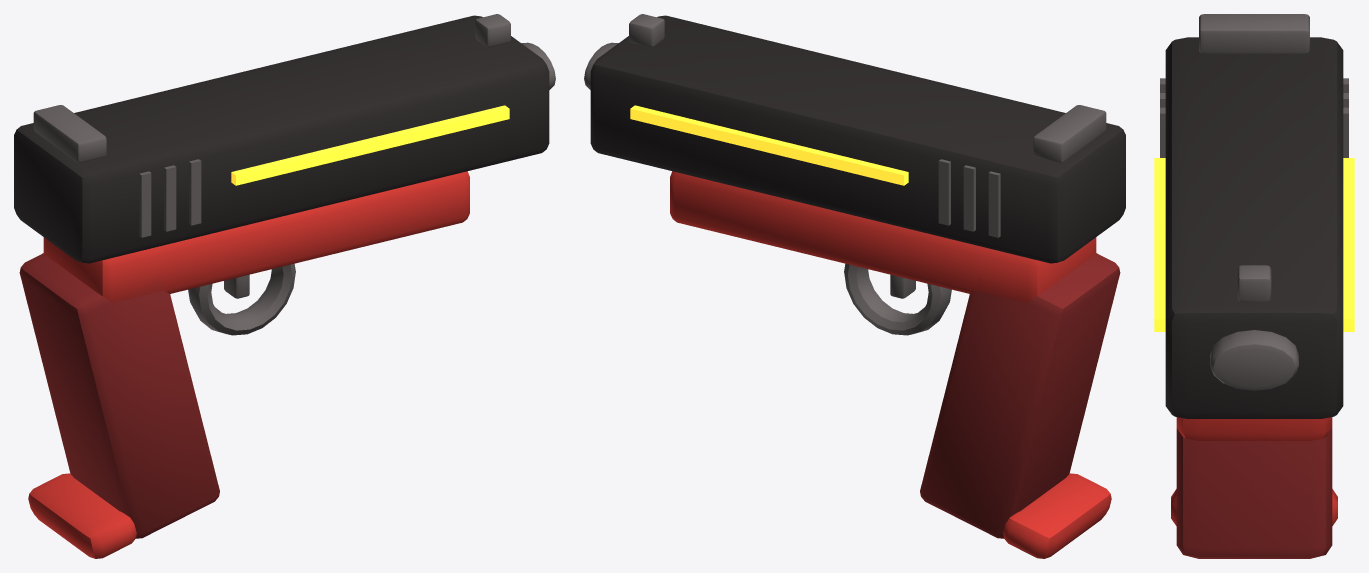
Rendered from SGP_Pistol_Inferno.glb.
The picture shows the model from 3 angles, left to right: view 1: azimuth 30°, elevation 25°; view 2: azimuth 150°, elevation 25°; view 3: azimuth 270°, elevation 25°; orthographic projection. The views are drawn at different scales.
Visible parts, largest first — view 1: SGP_Pistol_Inferno; view 2: SGP_Pistol_Inferno; view 3: SGP_Pistol_Inferno.
Part boxes in pixels (x1,y1,x2,y2): SGP_Pistol_Inferno: (14, 14, 555, 558); SGP_Pistol_Inferno: (584, 14, 1125, 558); SGP_Pistol_Inferno: (1154, 14, 1354, 558).
Bounding box in the file's own units: 0.199 × 0.1593 × 0.0576.
